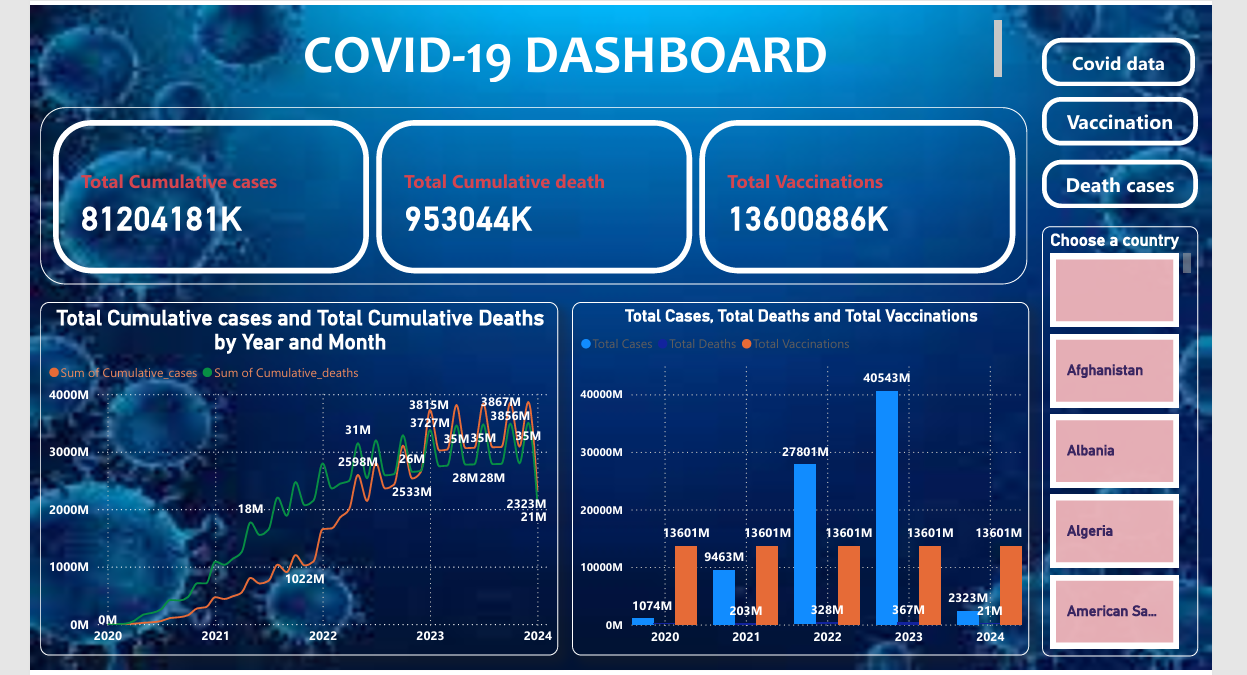

This screenshot's page, from the dashboard's own definition file:
{"tool":"powerbi","page":{"name":"Overview","canvas":[1280,720],"ordinal":0},"visuals":[{"type":"advancedSlicerVisual","title":"Choose a country","fields":{"Values":["WHO-COVID-19-global-data (3).Country"]},"box":[1095.9,238.6,168.6,466],"z":0},{"type":"cardVisual","fields":{"Data":["Sum(WHO-COVID-19-global-data (3).Cumulative_cases)","Sum(WHO-COVID-19-global-data (3).Cumulative_deaths)","Sum(vaccination-data (1).TOTAL_VACCINATIONS)"]},"box":[11.1,109.8,1068.9,192.5],"z":1000},{"type":"actionButton","box":[1095.9,35,165.4,52.5],"z":2000},{"type":"actionButton","box":[1095.9,98.6,168.6,52.5],"z":3000},{"type":"actionButton","box":[1095.9,167,168.6,52.5],"z":4000},{"type":"textbox","box":[98.6,11.1,957.5,76.3],"z":5000},{"type":"lineChart","title":"Total Cumulative cases and Total Cumulative Deaths by Year and Month","fields":{"Category":["WHO-COVID-19-global-data (3).Date_reported.Variation.Date Hierarchy.Year","WHO-COVID-19-global-data (3).Date_reported.Variation.Date Hierarchy.Month"],"Y":["Sum(WHO-COVID-19-global-data (3).Cumulative_cases)"],"Y2":["Sum(WHO-COVID-19-global-data (3).Cumulative_deaths)"]},"box":[11.1,321.3,561.5,383.3],"z":6000},{"type":"clusteredColumnChart","title":"Total Cases, Total Deaths and Total Vaccinations","fields":{"Category":["WHO-COVID-19-global-data (3).Date_reported.Variation.Date Hierarchy.Year"],"Y":["Sum(WHO-COVID-19-global-data (3).Cumulative_cases)","Sum(WHO-COVID-19-global-data (3).Cumulative_deaths)","Sum(vaccination-data (1).TOTAL_VACCINATIONS)"]},"box":[586.9,321.3,494.7,383.3],"z":7000}]}

Visuals, with their boxes on the page's 1280x720 design canvas (x1, y1, x2, y2). These are canvas units, not pixel positions in the 1247x675 screenshot, which may show the page scaled, cropped or inside an application window:
"Choose a country" advancedSlicerVisual: x1=1096, y1=239, x2=1264, y2=705
cardVisual - Sum(WHO-COVID-19-global-data (3).Cumulative_cases) x Sum(WHO-COVID-19-global-data (3).Cumulative_deaths): x1=11, y1=110, x2=1080, y2=302
actionButton: x1=1096, y1=35, x2=1261, y2=88
actionButton: x1=1096, y1=99, x2=1264, y2=151
actionButton: x1=1096, y1=167, x2=1264, y2=220
textbox: x1=99, y1=11, x2=1056, y2=87
"Total Cumulative cases and Total Cumulative Deaths by Year and Month" lineChart: x1=11, y1=321, x2=573, y2=705
"Total Cases, Total Deaths and Total Vaccinations" clusteredColumnChart: x1=587, y1=321, x2=1082, y2=705
